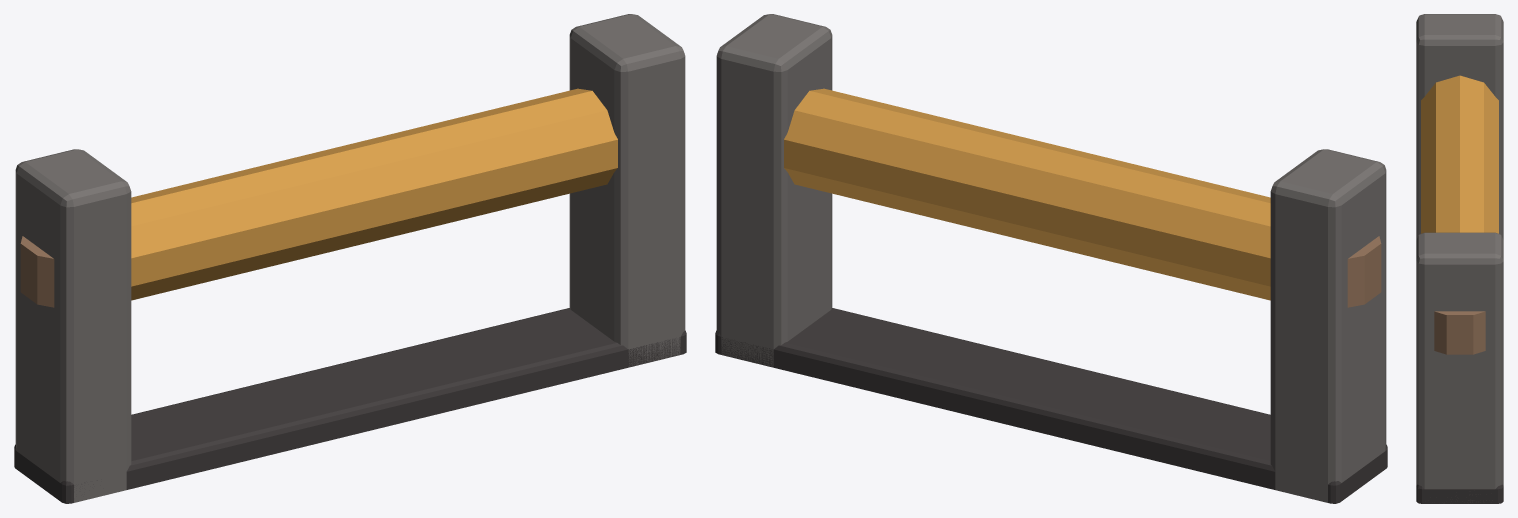
File: rn2-forja-barrier.glb
3 views of the same model, side by side, from view 1: azimuth 30°, elevation 25°; view 2: azimuth 150°, elevation 25°; view 3: azimuth 270°, elevation 25° (orthographic). The views are drawn at different scales.
Parts seen in each view (by area): view 1: rn2_forja_barrier_body, rn2_forja_barrier_glow; view 2: rn2_forja_barrier_body, rn2_forja_barrier_glow; view 3: rn2_forja_barrier_body, rn2_forja_barrier_glow.
Boxes of the visible parts, x1,y1,x2,y2 form: rn2_forja_barrier_body: (14, 14, 686, 503); rn2_forja_barrier_glow: (131, 88, 617, 300); rn2_forja_barrier_body: (715, 14, 1387, 503); rn2_forja_barrier_glow: (784, 88, 1270, 300); rn2_forja_barrier_body: (1416, 14, 1503, 503); rn2_forja_barrier_glow: (1421, 75, 1498, 233).
Bounding box in the file's own units: 2.2 × 1 × 0.32.
